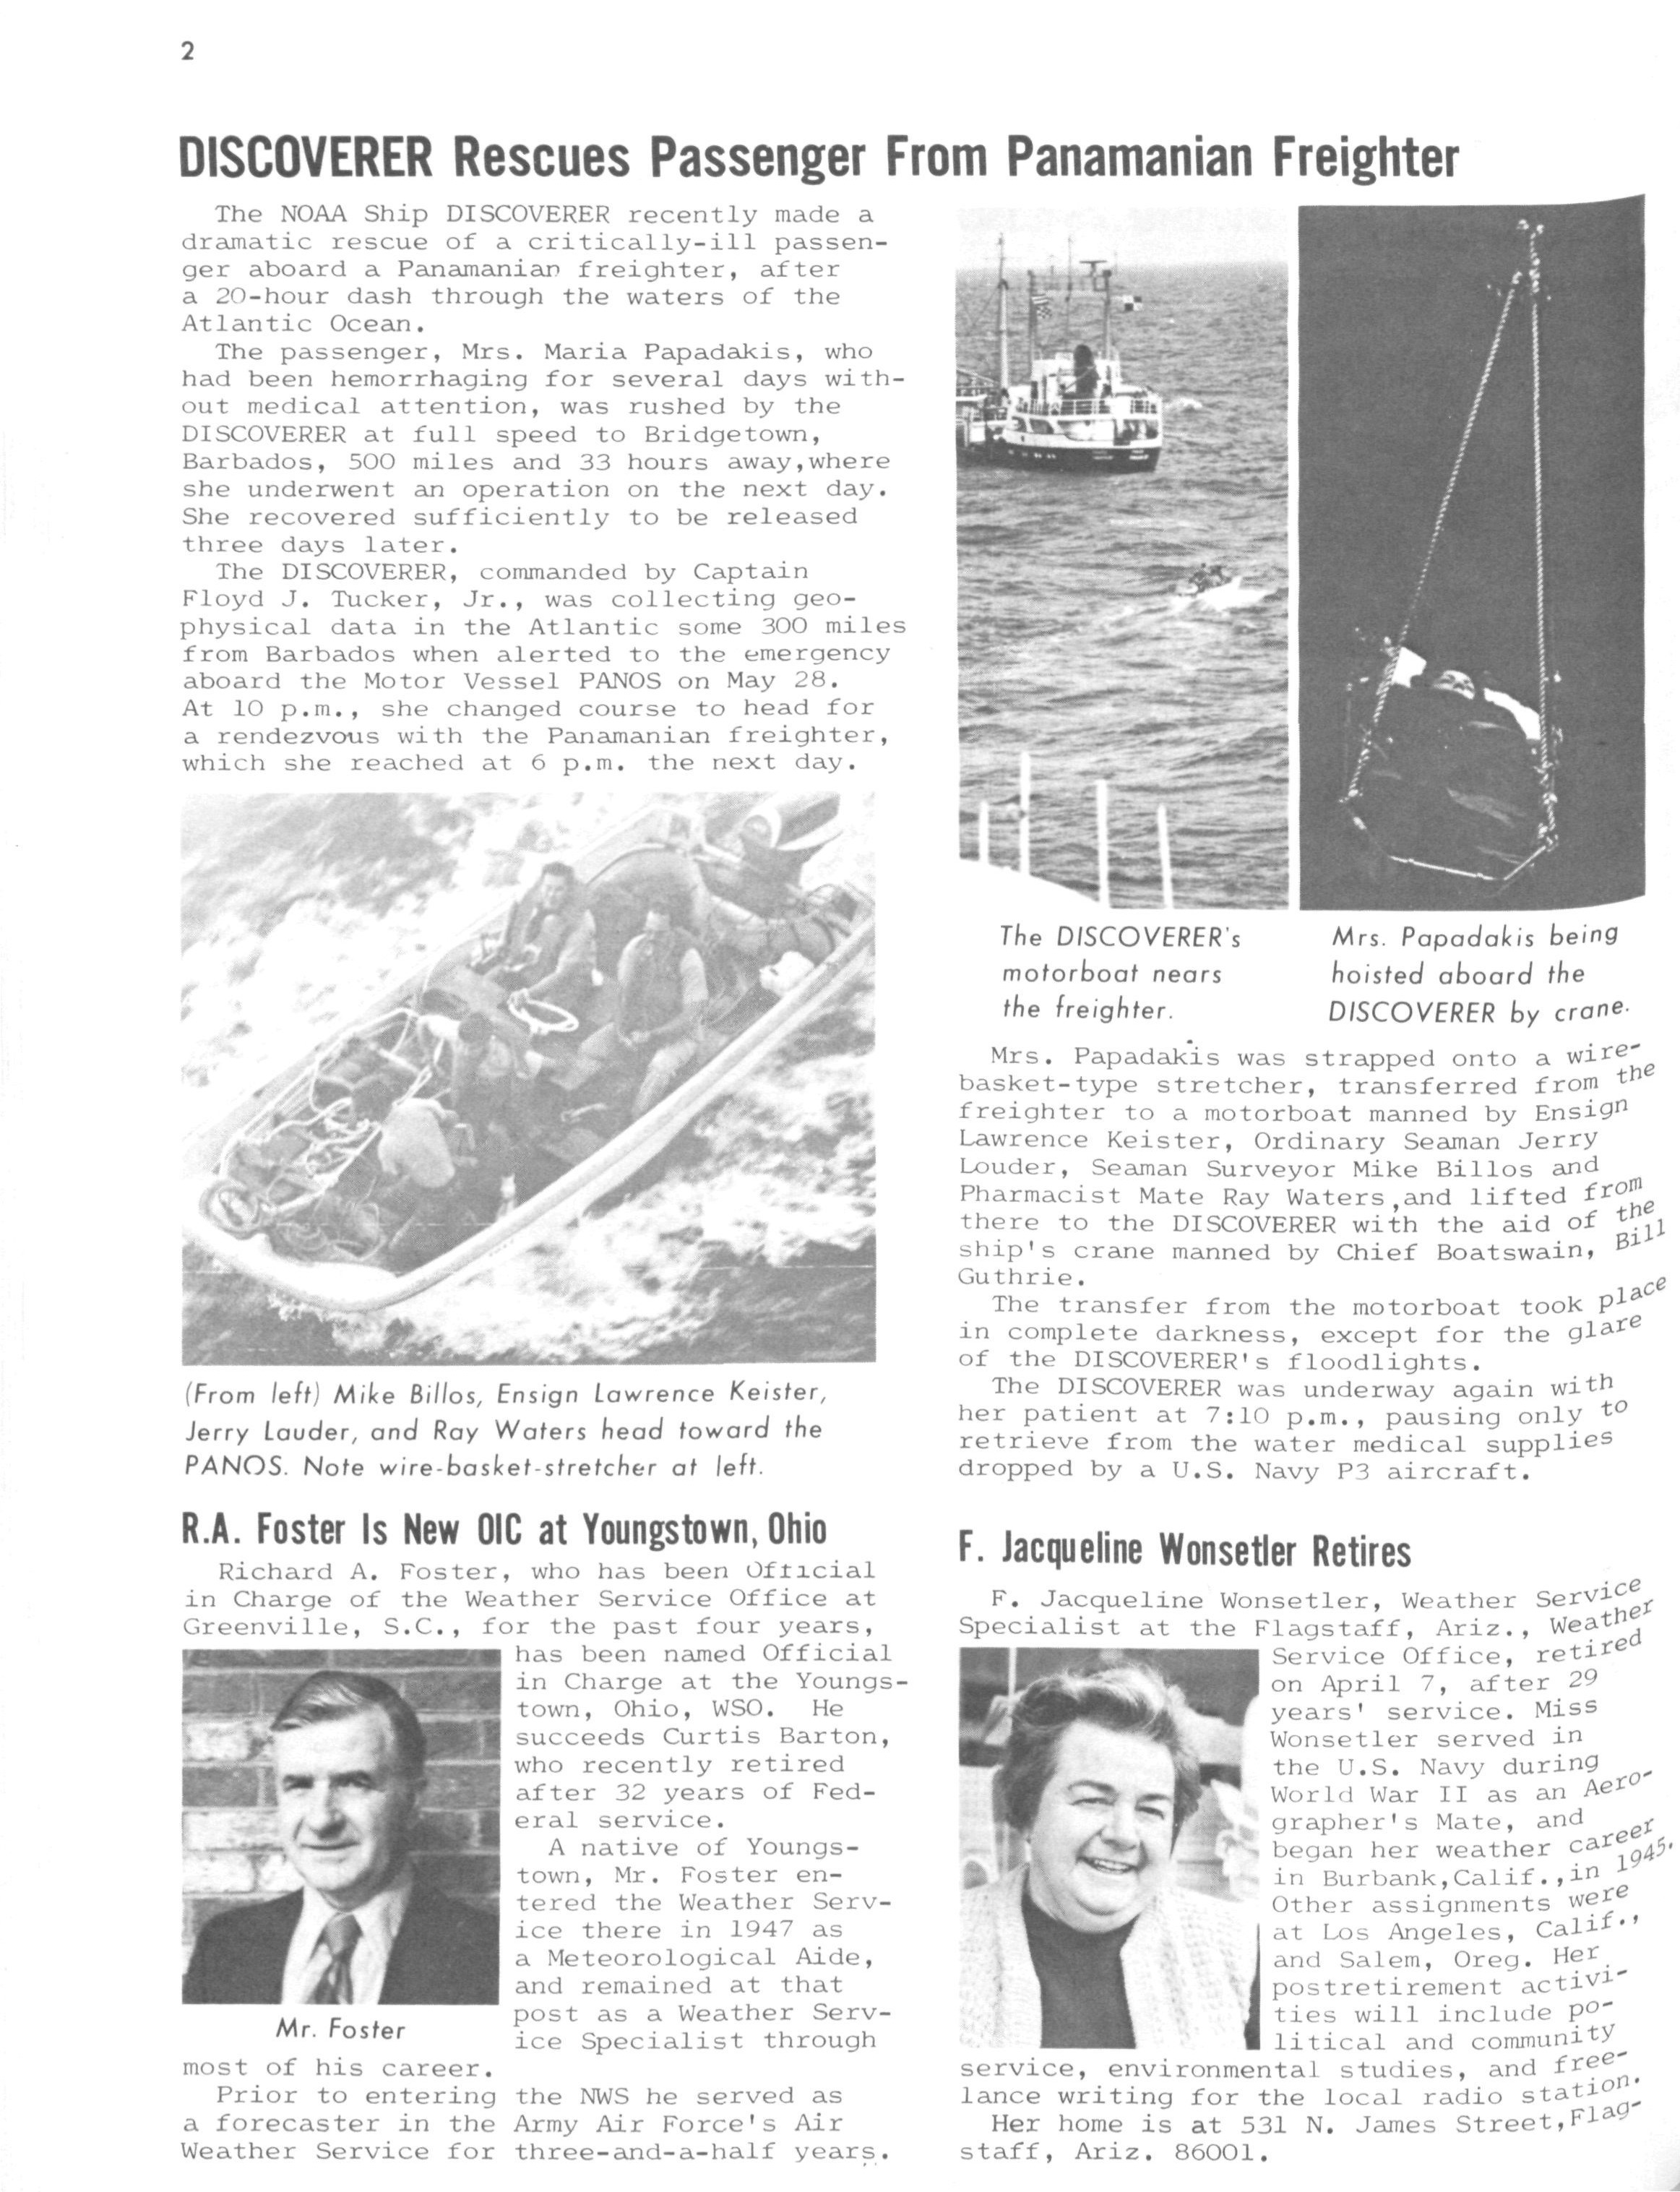caption: (180, 1375, 836, 1484), (1329, 930, 1638, 1027), (997, 927, 1235, 1024), (263, 2017, 411, 2047)
figure: (953, 208, 1648, 914), (175, 785, 872, 1357), (942, 1652, 1269, 2056), (175, 1652, 492, 2008)
section: (180, 136, 1468, 187), (176, 1509, 828, 1551), (962, 1525, 1417, 1567)
text: (958, 1590, 1661, 2164), (184, 1565, 902, 1832), (958, 1043, 1664, 1290), (184, 554, 895, 766), (184, 355, 895, 544), (187, 203, 891, 341), (515, 1844, 898, 2053), (965, 1377, 1641, 1470), (187, 2076, 888, 2166), (962, 1301, 1654, 1371)
